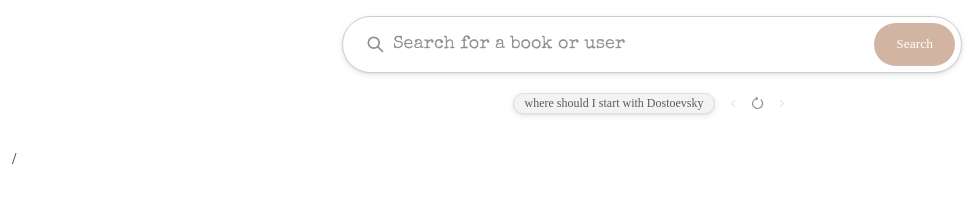
it: DiscoverPage › the canned search pills (LOS-212) › shows a saved search as a pinned pill
Expected: the button "where should I start with Dostoevsky" is shown, [512,93,716,114]
In the field: (630, 44) [393,28,866,62], type "novels about map makers who lied"
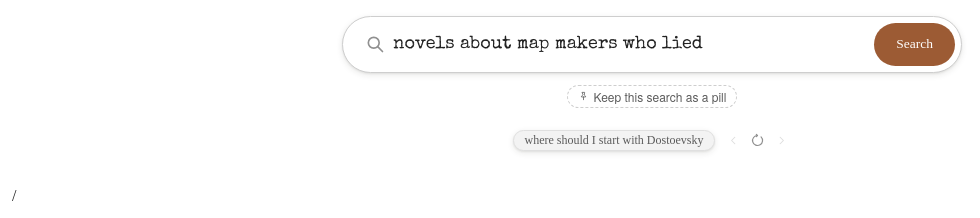
Click the button "Keep this search as a pill": (652, 96) [566,85,737,108]
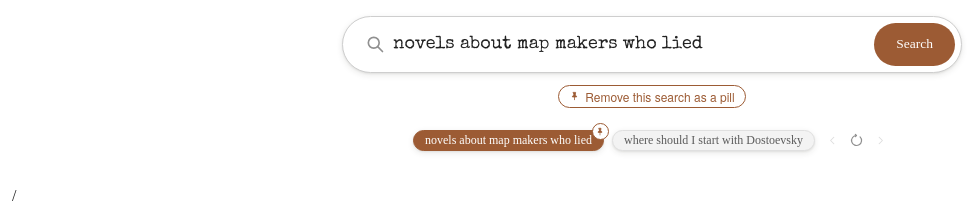
Expected: the button named "Unpin novels about map makers who lied" is shown, [592,123,609,140]
